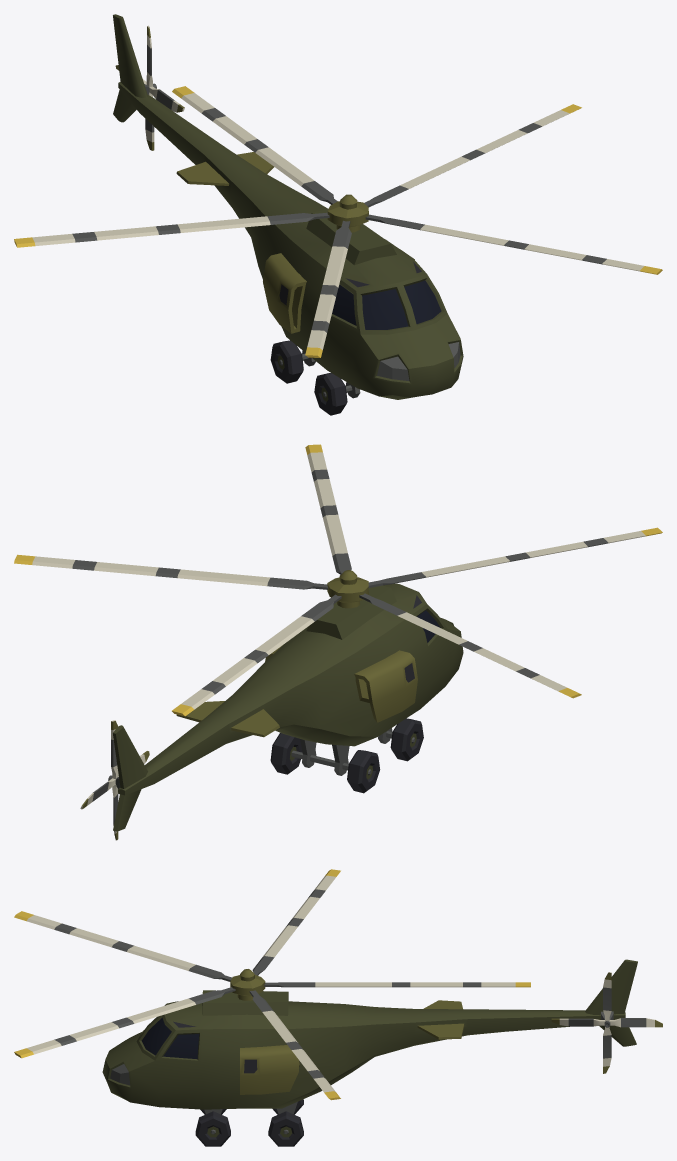
The model's file is LPWarPack_Helicopter.fbx.
The picture shows the model from 3 angles, top to bottom: view 1: azimuth 30°, elevation 25°; view 2: azimuth 150°, elevation 25°; view 3: azimuth 270°, elevation 25°; orthographic projection. The views are drawn at different scales.
Parts seen in each view (by area): view 1: Helicopter; view 2: Helicopter; view 3: Helicopter.
Part boxes in pixels (x1,y1,x2,y2): Helicopter: [14, 14, 662, 415]; Helicopter: [14, 444, 662, 840]; Helicopter: [14, 869, 662, 1146].
Size of the model in its own units: 982 by 336 by 1172.
